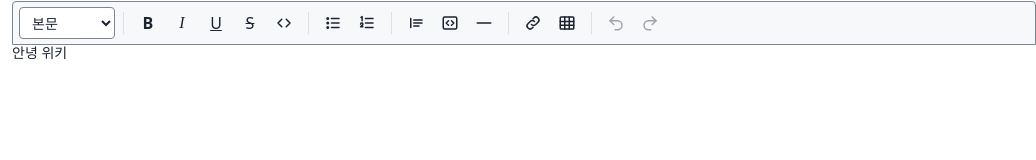
Test: FormatToolbar › **누르면 서식이 들고 눌림으로 보인다** — 되돌리기는 고친 뒤에야 누를 수 있다
Check: the button named "되돌리기" is disabled, box [600,7,632,39]
Click the button named "굵게" at (148, 23), box [132,7,164,39]
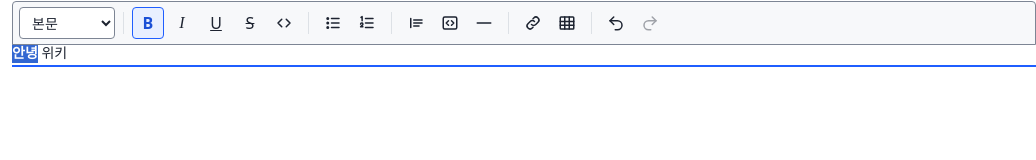
Check: the button named "되돌리기" is enabled, box [600,7,632,39]
